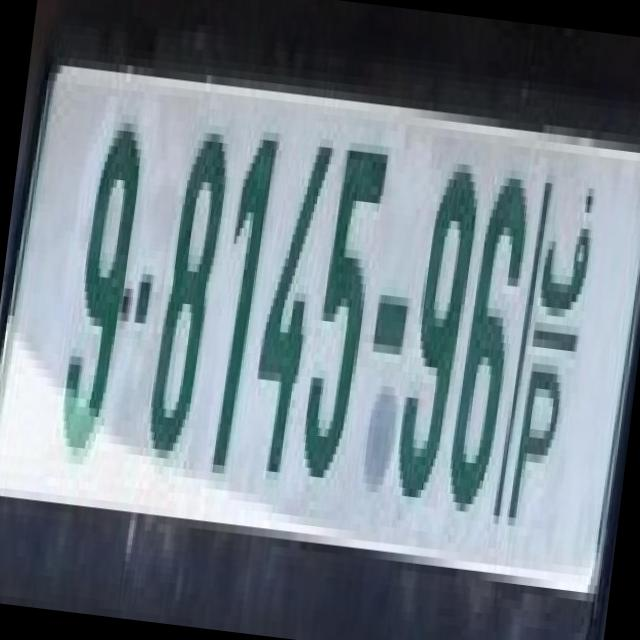1: (192, 111, 282, 467), (162, 116, 253, 463)
4: (239, 117, 329, 473)
5: (286, 107, 398, 490)
6: (443, 150, 538, 507)
8: (138, 104, 230, 460)
9: (44, 93, 154, 460), (381, 134, 490, 500)
P: (498, 320, 580, 514)
